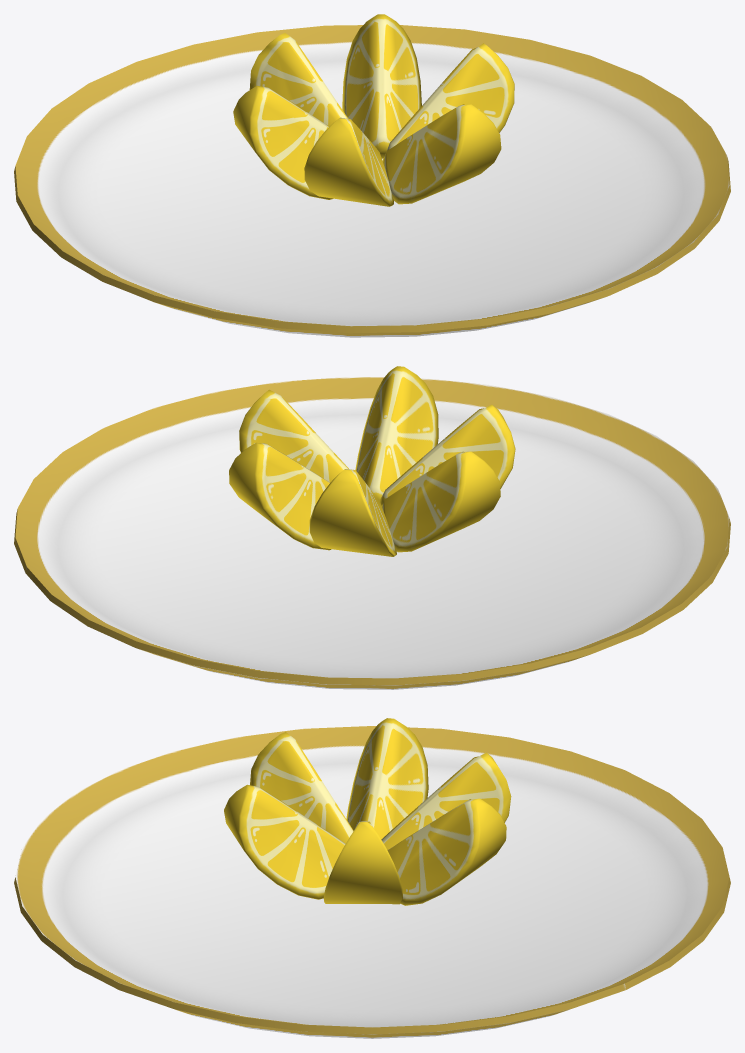
Rendered from TabaklıLimon.fbx.
The picture shows the model from 3 angles, top to bottom: view 1: azimuth 30°, elevation 25°; view 2: azimuth 150°, elevation 25°; view 3: azimuth 270°, elevation 25°; orthographic projection.
Parts seen in each view (by area): view 1: TabaklıLimon; view 2: TabaklıLimon; view 3: TabaklıLimon.
Boxes of the visible parts, bbox=[...] form: TabaklıLimon: bbox=[14, 14, 730, 337]; TabaklıLimon: bbox=[14, 366, 730, 689]; TabaklıLimon: bbox=[14, 718, 730, 1038].
Size of the model in its own units: 0.8717 by 0.1787 by 0.8717.
